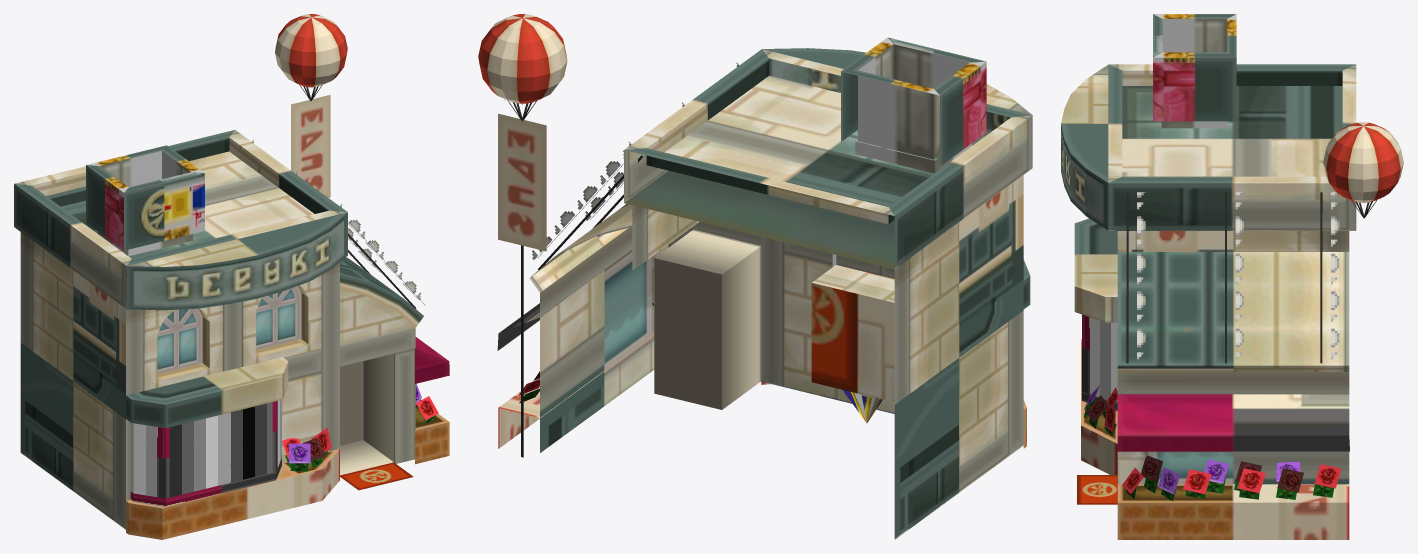
File: dobj_department_A01.obj
3 views of the same model, side by side, from view 1: azimuth 30°, elevation 25°; view 2: azimuth 150°, elevation 25°; view 3: azimuth 270°, elevation 25° (orthographic). The views are drawn at different scales.
Parts seen in each view (by area): view 1: vsn_mesh_0_pPlane5_mesh_0_pPlane5, vsn_mesh_1_bag_mesh_1_bag, vsn_mesh_4_window2_mesh_4_window2, vsn_mesh_2_mat_mesh_2_mat, vsn_mesh_5_pCone1_mesh_5_pCone1; view 2: vsn_mesh_0_pPlane5_mesh_0_pPlane5, vsn_mesh_1_bag_mesh_1_bag, vsn_mesh_5_pCone1_mesh_5_pCone1; view 3: vsn_mesh_0_pPlane5_mesh_0_pPlane5, vsn_mesh_1_bag_mesh_1_bag, vsn_mesh_5_pCone1_mesh_5_pCone1, vsn_mesh_4_window2_mesh_4_window2, vsn_mesh_2_mat_mesh_2_mat.
Boxes of the visible parts, x1,y1,x2,y2 form: vsn_mesh_0_pPlane5_mesh_0_pPlane5: (14, 14, 449, 539); vsn_mesh_1_bag_mesh_1_bag: (86, 145, 347, 310); vsn_mesh_4_window2_mesh_4_window2: (130, 400, 281, 497); vsn_mesh_2_mat_mesh_2_mat: (340, 440, 413, 490); vsn_mesh_5_pCone1_mesh_5_pCone1: (252, 83, 425, 308); vsn_mesh_0_pPlane5_mesh_0_pPlane5: (478, 14, 1032, 539); vsn_mesh_1_bag_mesh_1_bag: (769, 37, 1010, 423); vsn_mesh_5_pCone1_mesh_5_pCone1: (504, 62, 739, 269); vsn_mesh_0_pPlane5_mesh_0_pPlane5: (1061, 64, 1403, 539); vsn_mesh_1_bag_mesh_1_bag: (1061, 14, 1236, 230); vsn_mesh_5_pCone1_mesh_5_pCone1: (1126, 192, 1380, 363); vsn_mesh_4_window2_mesh_4_window2: (1090, 317, 1117, 401); vsn_mesh_2_mat_mesh_2_mat: (1077, 475, 1117, 504).
Bounding box in the file's own units: 1.92 × 2.03 × 1.56.
5 materials, 5 textured.
